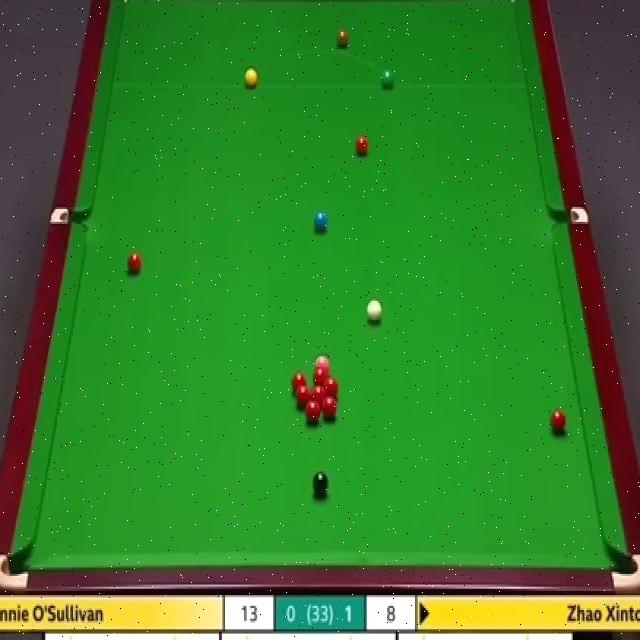black-ball: (312, 470, 330, 495)
blue-ball: (313, 209, 328, 234)
brown-ball: (335, 29, 350, 50)
green-ball: (380, 67, 394, 89)
pink-ball: (315, 356, 329, 375)
red-ball: (550, 408, 566, 436), (128, 249, 142, 276), (305, 401, 320, 426), (354, 133, 369, 158), (313, 382, 329, 405), (292, 370, 306, 392), (322, 397, 336, 419), (296, 385, 309, 407), (328, 376, 342, 396), (313, 372, 327, 384)
white-ball: (365, 298, 383, 325)
yellow-ball: (244, 68, 258, 88)
